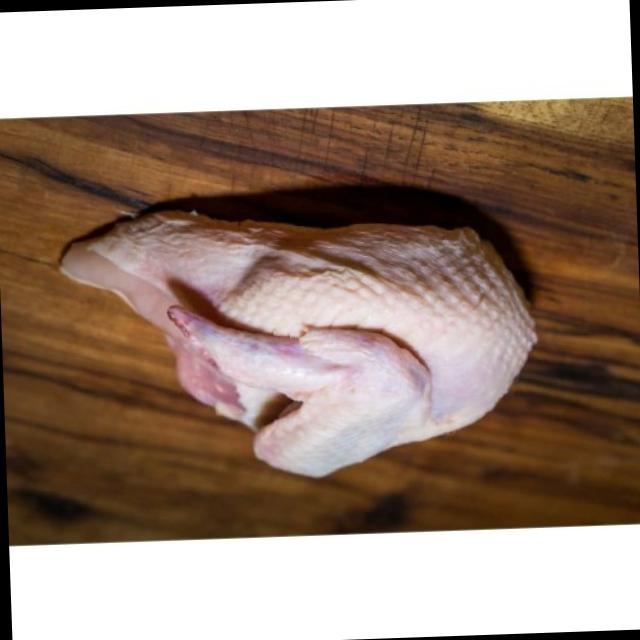chicken: (58, 208, 536, 489)
